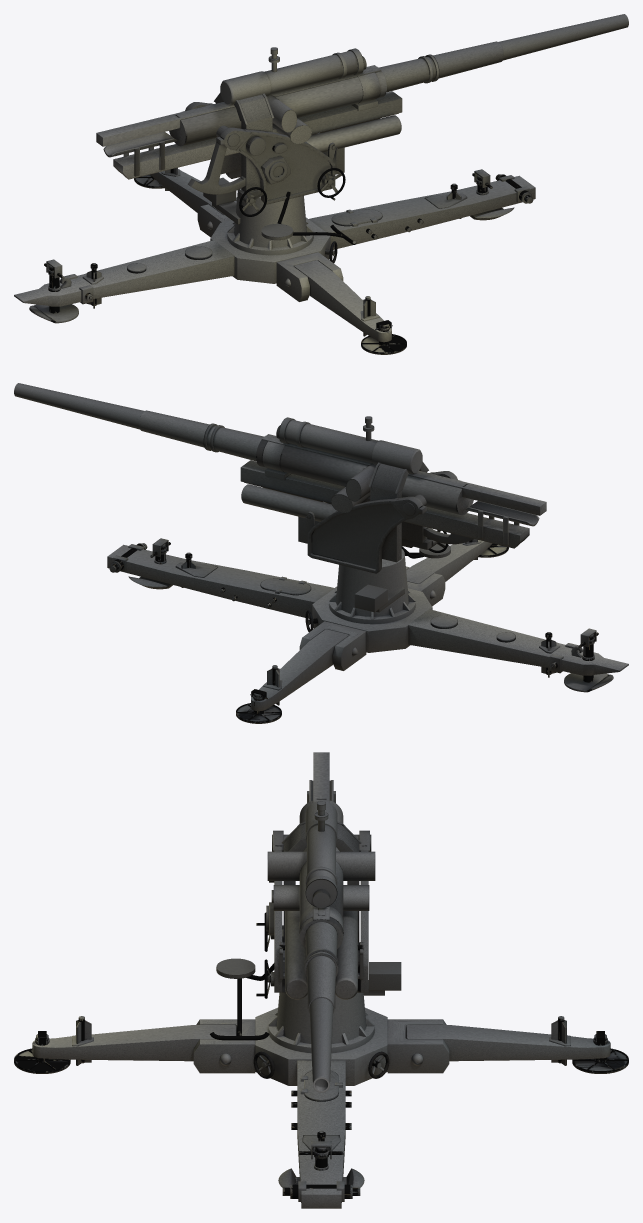
File: cannon.glb
3 renders of one model, top to bottom at view 1: azimuth 30°, elevation 25°; view 2: azimuth 150°, elevation 25°; view 3: azimuth 270°, elevation 25°, orthographic. The views are drawn at different scales.
Parts seen in each view (by area): view 1: Asset Flak (×4); view 2: Asset Flak (×4); view 3: Asset Flak (×4).
Boxes of the visible parts, x1,y1,x2,y2 form: Asset Flak (×4): [14, 14, 628, 354]; Asset Flak (×4): [14, 383, 628, 723]; Asset Flak (×4): [14, 752, 628, 1208].
Bounding box in the file's own units: 4.51 × 1.51 × 3.22.
4 materials, 4 textured.
